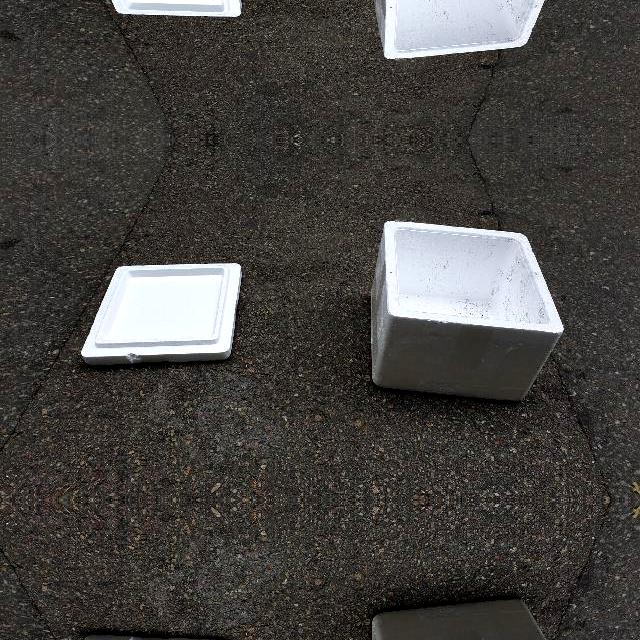Styrofoam: (370, 221, 564, 401), (372, 221, 564, 400), (81, 261, 242, 365), (81, 263, 241, 364), (370, 0, 564, 59), (374, 0, 546, 59), (370, 599, 564, 640)
